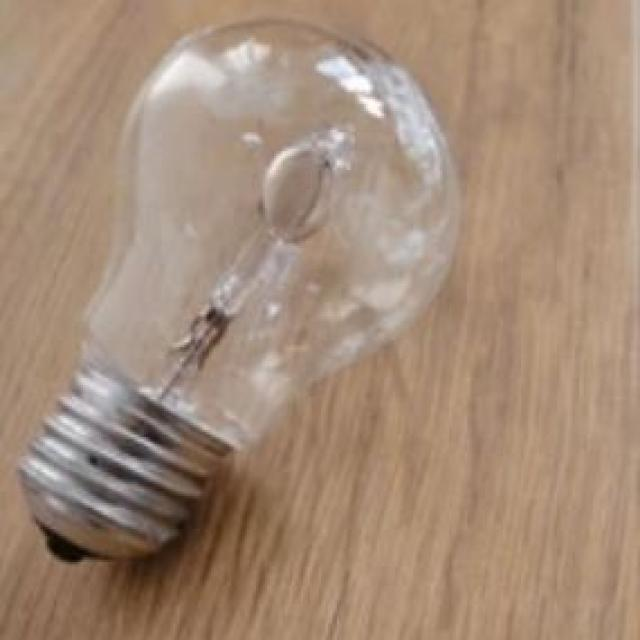electronic: (14, 14, 462, 562)
